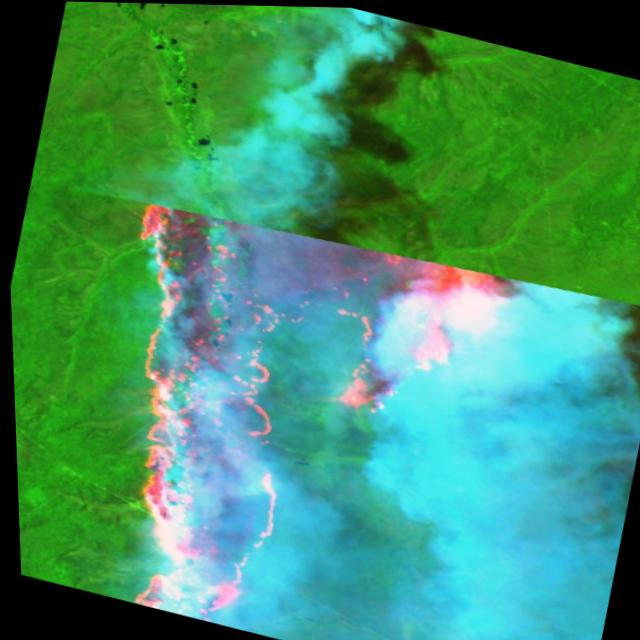fire: (46, 177, 522, 640)
